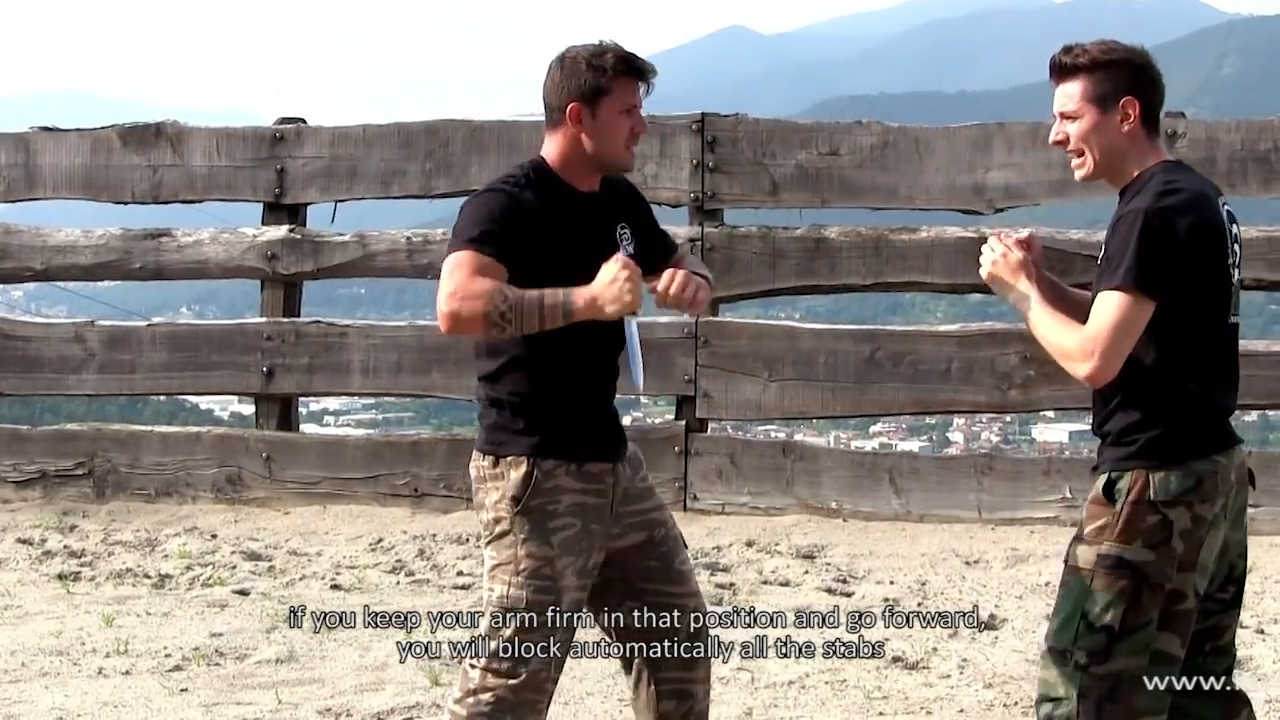knife: (607, 261, 653, 404)
